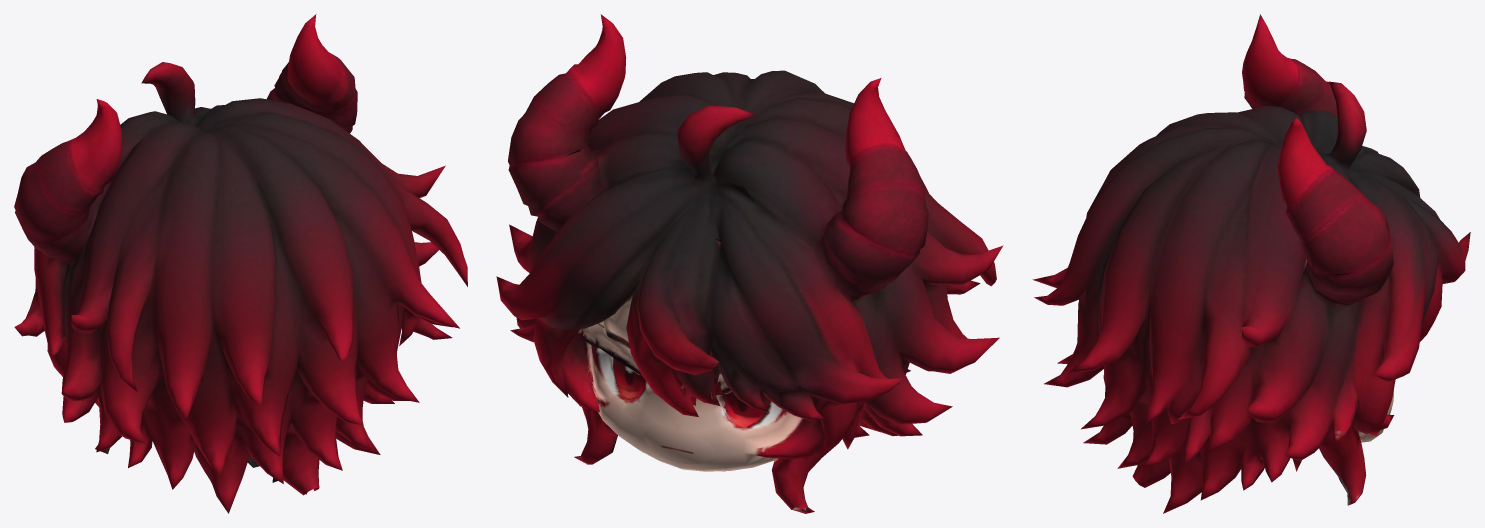
Rendered from Costume_HornsWarriorM_HeadExpressions_R15.glb.
3 views of the same model, side by side, from view 1: azimuth 30°, elevation 25°; view 2: azimuth 150°, elevation 25°; view 3: azimuth 270°, elevation 25° (orthographic). The views are drawn at different scales.
Visible parts, largest first — view 1: HeadBase; view 2: HeadBase, FaceExpression; view 3: HeadBase.
Boxes of the visible parts, x1=… form: HeadBase: x1=14, y1=14, x2=467, y2=513; HeadBase: x1=496, y1=14, x2=1003, y2=513; FaceExpression: x1=579, y1=294, x2=803, y2=471; HeadBase: x1=1032, y1=14, x2=1470, y2=513.
Bounding box in the file's own units: 2.61 × 2.43 × 2.36.
Materials: 2 (2 with a texture image).
